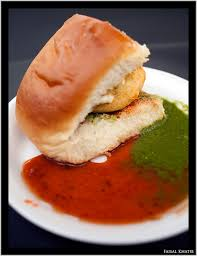vada pav: (59, 29, 133, 138)
